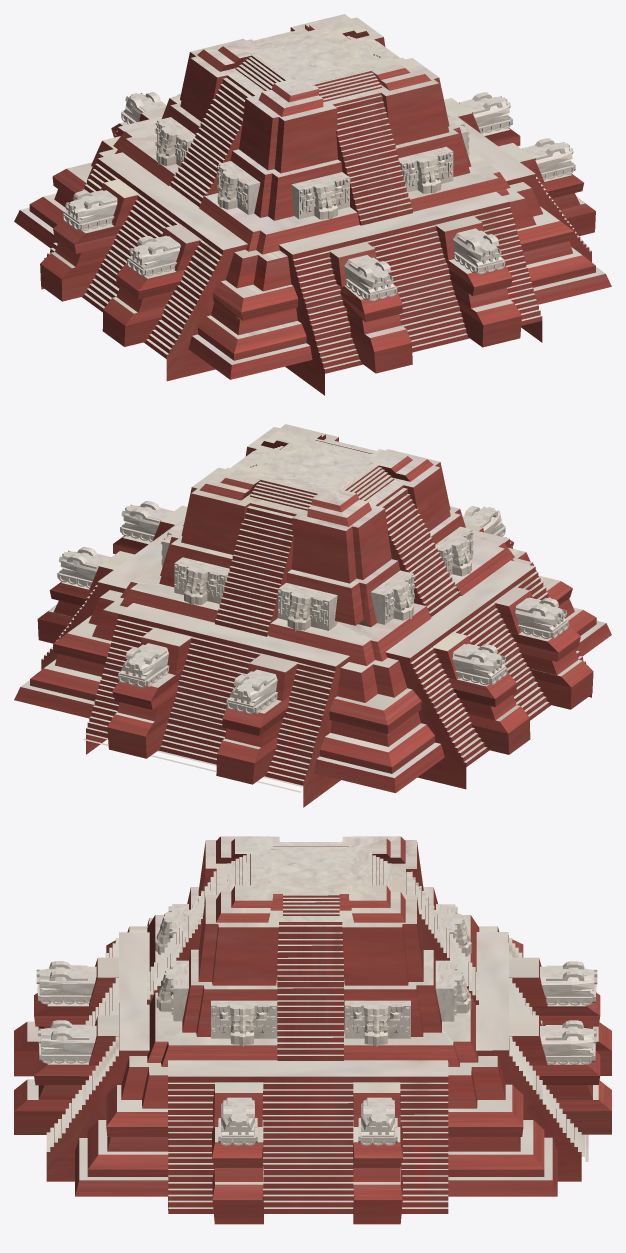
Rendered from observatorio_1.dae.
The picture shows the model from 3 angles, top to bottom: view 1: azimuth 30°, elevation 25°; view 2: azimuth 150°, elevation 25°; view 3: azimuth 270°, elevation 25°; orthographic projection. The views are drawn at different scales.
Parts seen in each view (by area): view 1: obser_1; view 2: obser_1; view 3: obser_1.
Part boxes in pixels (x1=…): obser_1: x1=14, y1=14, x2=611, y2=395; obser_1: x1=14, y1=424, x2=611, y2=807; obser_1: x1=14, y1=836, x2=611, y2=1224.
Size of the model in its own units: 29.2 by 28.78 by 13.41.
1 material, 1 textured.
